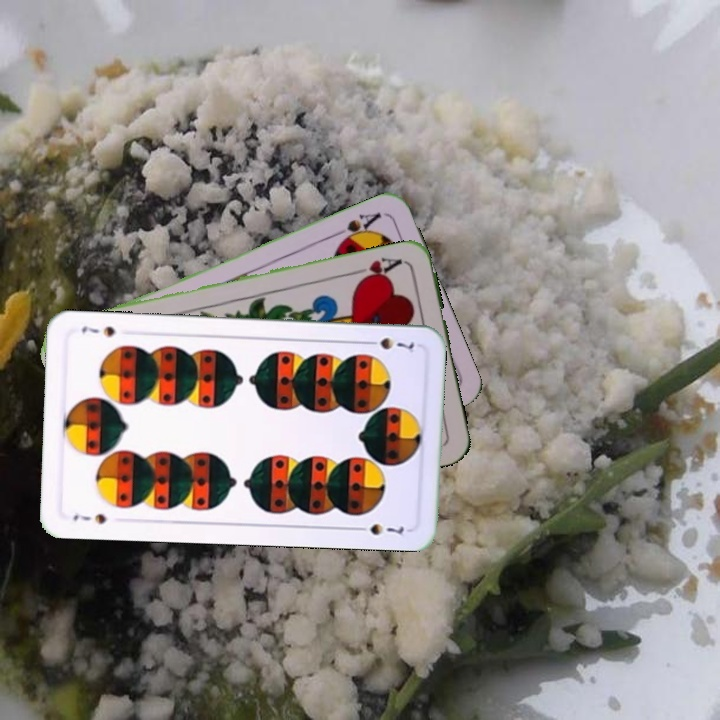HA: (348, 253, 407, 285)
S7: (361, 333, 420, 355), (69, 509, 108, 527)
SA: (329, 208, 384, 248)
